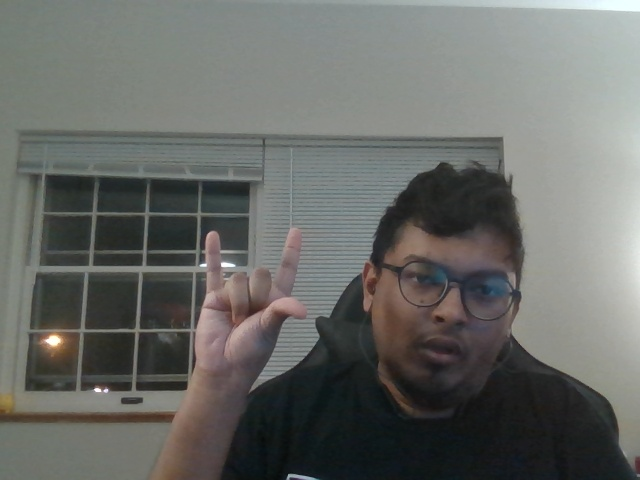ilikeyou: (185, 217, 316, 387)
